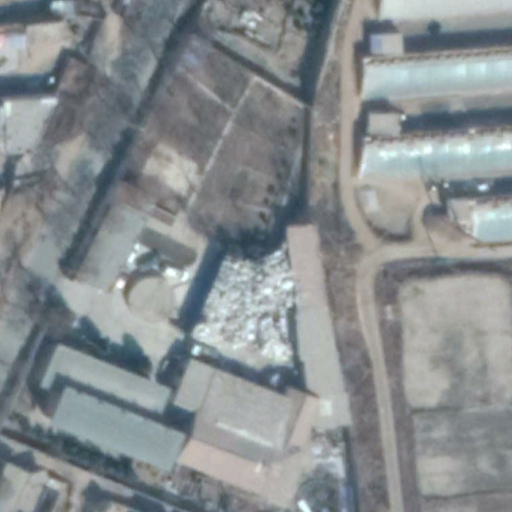msw: (193, 247, 302, 365)
